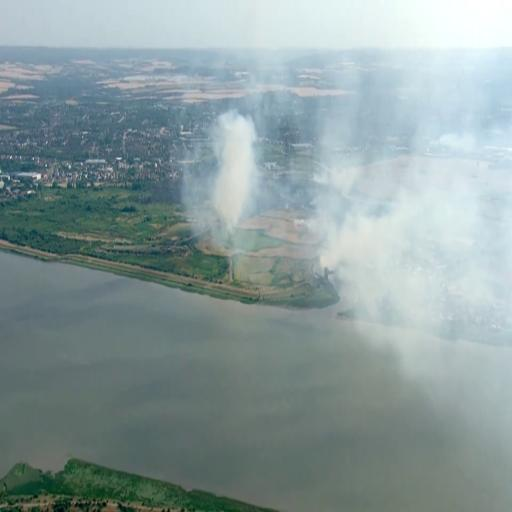fire: (212, 116, 272, 228)
